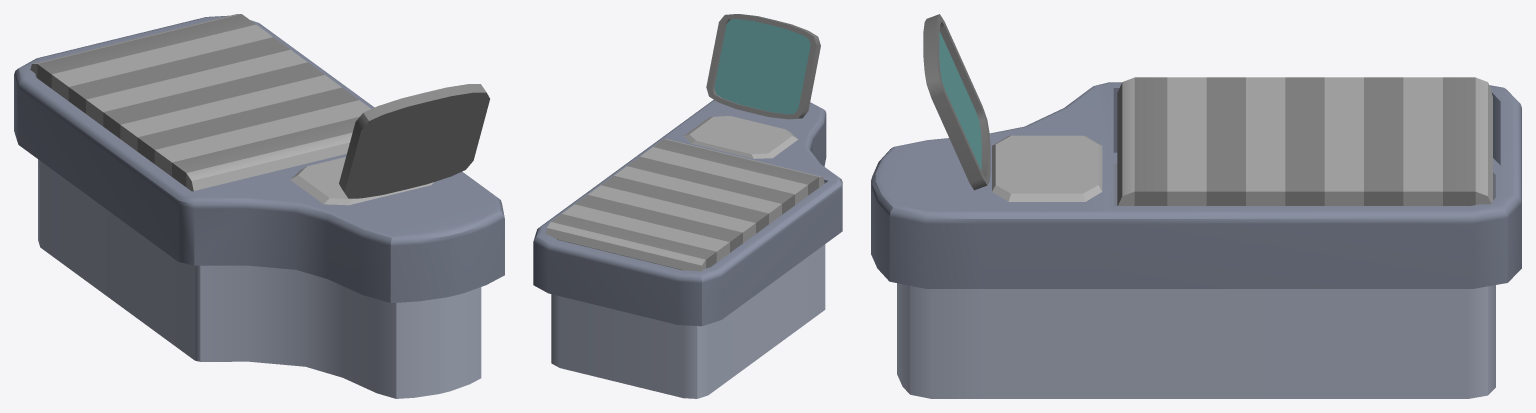
File: CheckOutLeft.fbx
The picture shows the model from 3 angles, left to right: view 1: azimuth 30°, elevation 25°; view 2: azimuth 150°, elevation 25°; view 3: azimuth 270°, elevation 25°; orthographic projection. The views are drawn at different scales.
Visible parts, largest first — view 1: Main, ConveyorBelt, Monitor, Plate; view 2: Main, ConveyorBelt, Monitor, Plate; view 3: Main, ConveyorBelt, Plate, Monitor.
Boxes of the visible parts, x1=… form: Main: x1=14, y1=15, x2=504, y2=398; ConveyorBelt: x1=30, y1=14, x2=370, y2=191; Monitor: x1=339, y1=84, x2=489, y2=198; Plate: x1=290, y1=157, x2=433, y2=205; Main: x1=533, y1=100, x2=842, y2=398; ConveyorBelt: x1=545, y1=139, x2=824, y2=271; Monitor: x1=706, y1=14, x2=820, y2=119; Plate: x1=683, y1=116, x2=797, y2=158; Main: x1=871, y1=82, x2=1521, y2=398; ConveyorBelt: x1=1117, y1=77, x2=1492, y2=205; Plate: x1=992, y1=135, x2=1102, y2=201; Monitor: x1=923, y1=14, x2=990, y2=190.
Size of the model in its own units: 1.5 by 1.69 by 3.03.
